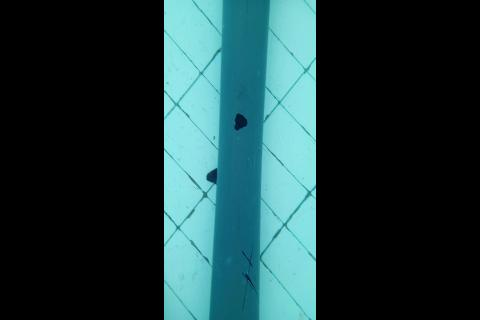kebocoran: (233, 111, 249, 132)
keretakan: (240, 243, 257, 312)
